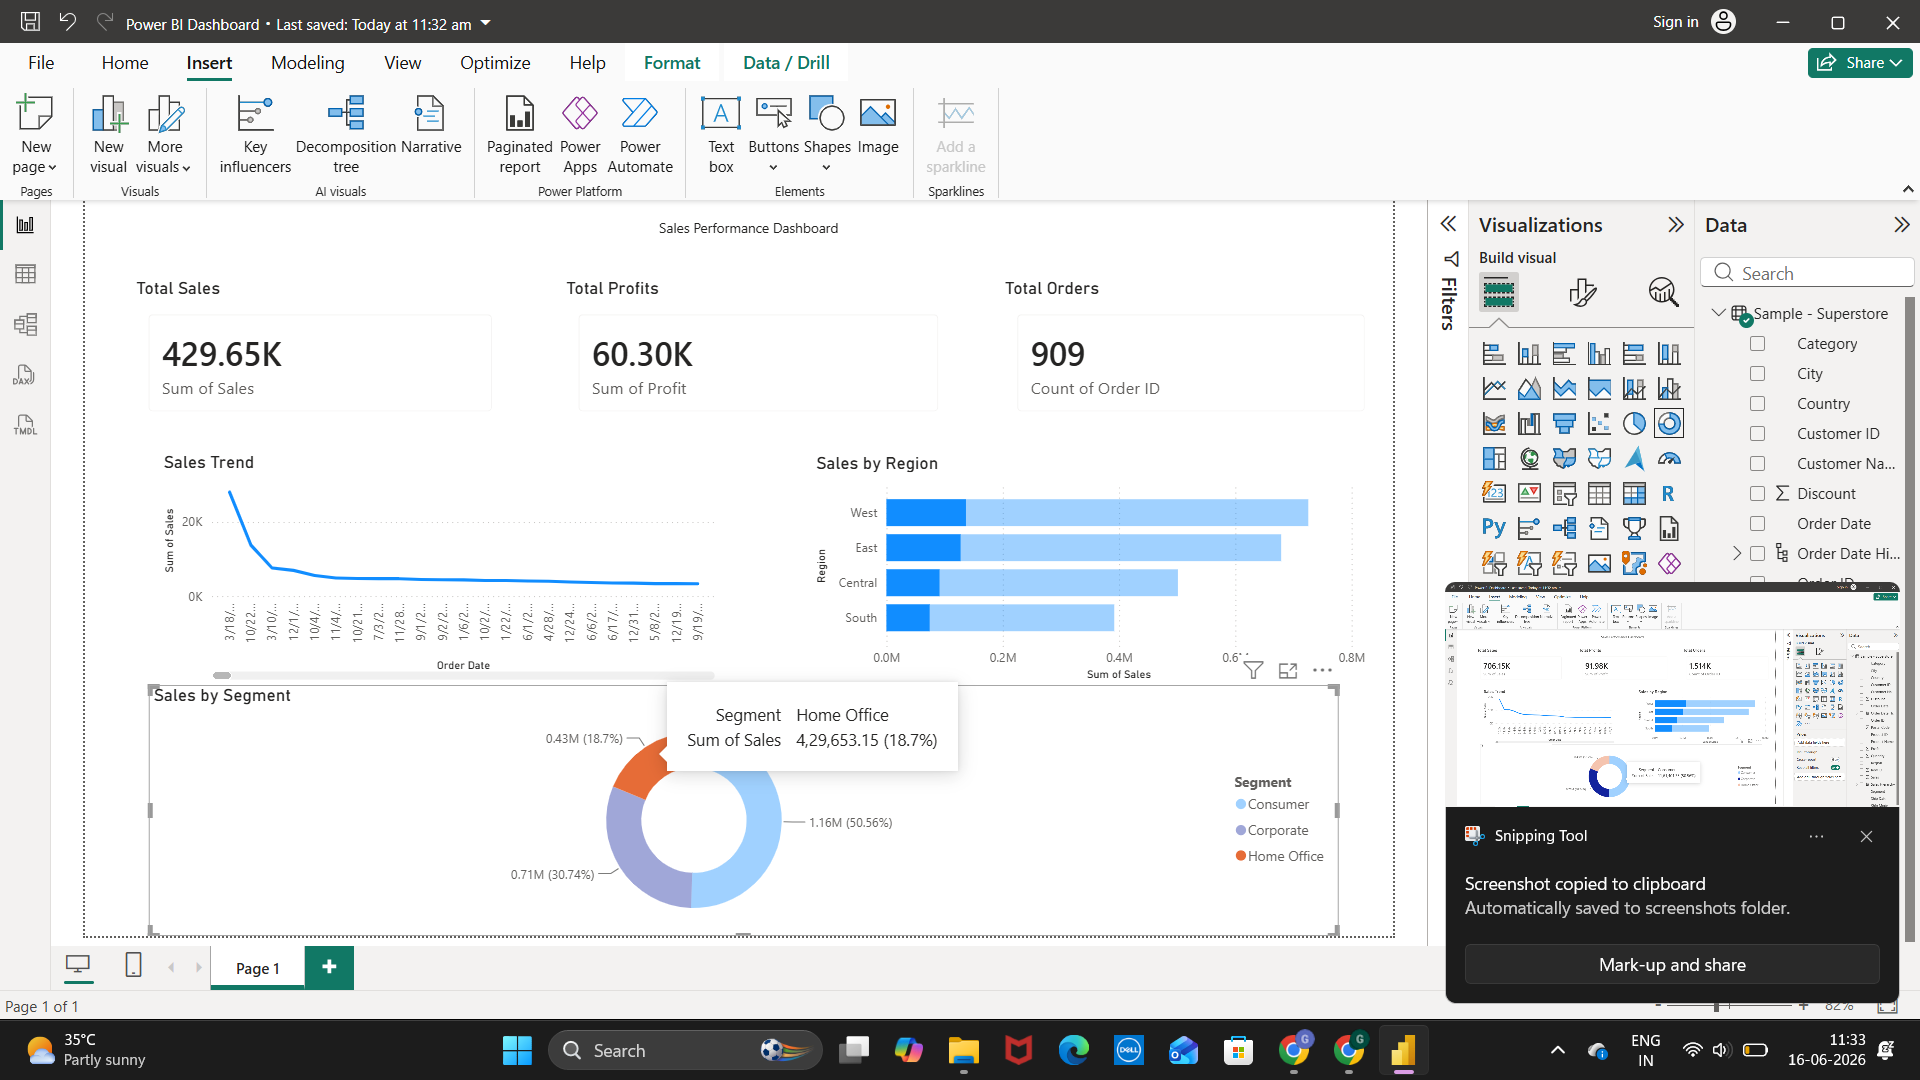

This screenshot's page, from the dashboard's own definition file:
{"tool":"powerbi","page":{"name":"Page 1","canvas":[1280,720],"ordinal":0},"visuals":[{"type":"cardVisual","title":"Total Sales","fields":{"Data":["Sum(Sample - Superstore.Sales)"]},"box":[45.2,75.8,370.5,149.2],"z":0},{"type":"cardVisual","title":"Total Profits","fields":{"Data":["Sum(Sample - Superstore.Profit)"]},"box":[465.9,75.8,386.4,149.2],"z":1000},{"type":"cardVisual","title":"Total Orders","fields":{"Data":["Count(Sample - Superstore.Order ID)"]},"box":[895.1,75.8,374.2,149.2],"z":2000},{"type":"lineChart","title":"Sales Trend","fields":{"Y":["Sum(Sample - Superstore.Sales)"],"Category":["Sample - Superstore.Order Date"]},"box":[72.1,245.8,549.1,228.7],"z":3000},{"type":"clusteredBarChart","title":"Sales by Region","fields":{"Category":["Sample - Superstore.Region"],"Y":["Sum(Sample - Superstore.Sales)"]},"box":[710.5,247,547.8,228.7],"z":4000},{"type":"donutChart","title":"Sales by Segment","fields":{"Category":["Sample - Superstore.Segment"],"Y":["Sum(Sample - Superstore.Sales)"]},"box":[62.4,474.5,1164.1,245.8],"z":5000},{"type":"textbox","box":[72,475,286,245],"z":5001},{"type":"textbox","box":[100.3,13.5,1098.1,33],"z":5002}]}

Visuals, with their boxes on the page's 1280x720 design canvas (x1, y1, x2, y2). These are canvas units, not pixel positions in the 1920x1080 screenshot, which may show the page scaled, cropped or inside an application window:
"Total Sales" cardVisual: {"left": 45, "top": 76, "right": 416, "bottom": 225}
"Total Profits" cardVisual: {"left": 466, "top": 76, "right": 852, "bottom": 225}
"Total Orders" cardVisual: {"left": 895, "top": 76, "right": 1269, "bottom": 225}
"Sales Trend" lineChart: {"left": 72, "top": 246, "right": 621, "bottom": 474}
"Sales by Region" clusteredBarChart: {"left": 710, "top": 247, "right": 1258, "bottom": 476}
"Sales by Segment" donutChart: {"left": 62, "top": 474, "right": 1226, "bottom": 720}
textbox: {"left": 72, "top": 475, "right": 358, "bottom": 720}
textbox: {"left": 100, "top": 14, "right": 1198, "bottom": 46}
